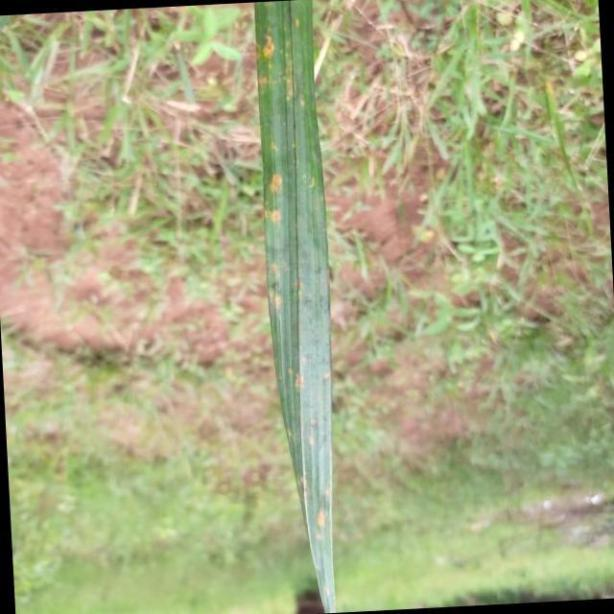Kalium: (254, 0, 341, 614)
